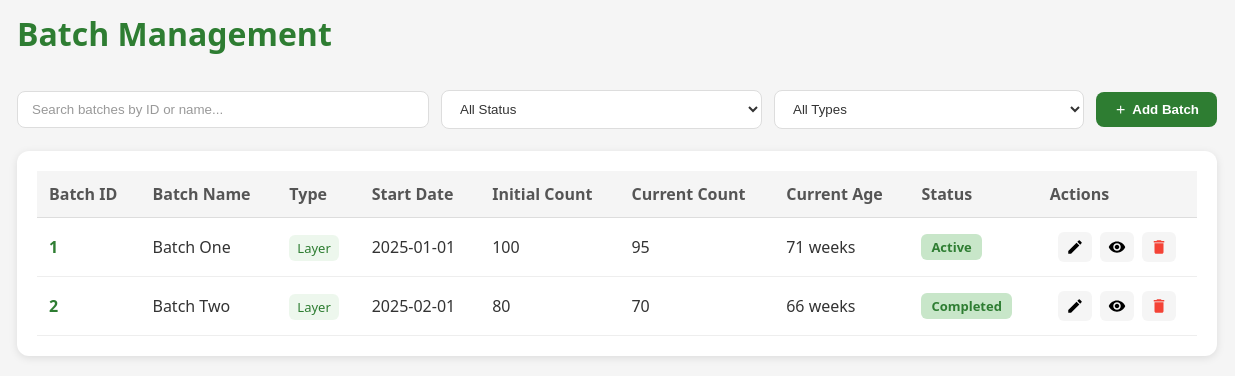
Test: BatchManagement Component › status filter works
The width and height of the screenshot is (1235, 376).
Check: the text "Batch One" is shown, box [140,218,277,276]
Step 1. Select "Completed" in the 1st dropdown showing "All Status" → {"x": 602, "y": 110}, box [441,90,762,129]
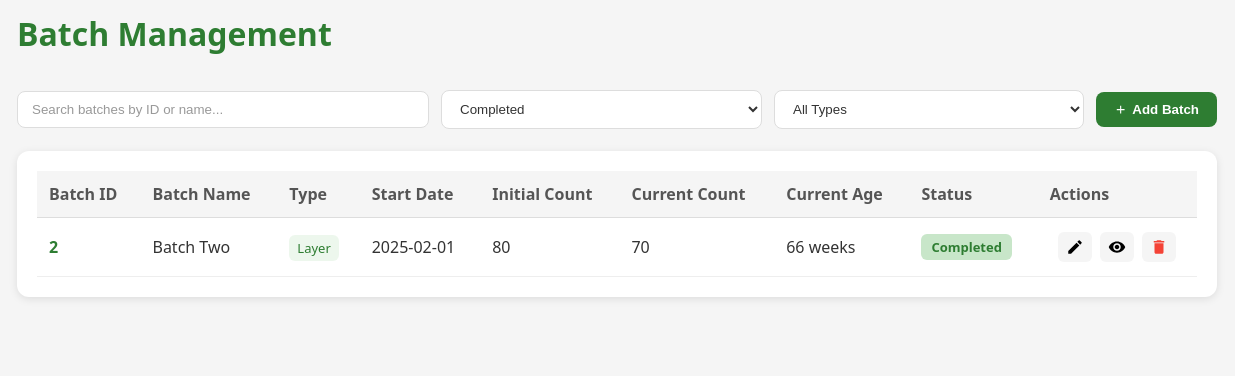
Check: the text "Batch Two" is shown, box [140,218,277,276]
Check: the text "Batch One" is gone
